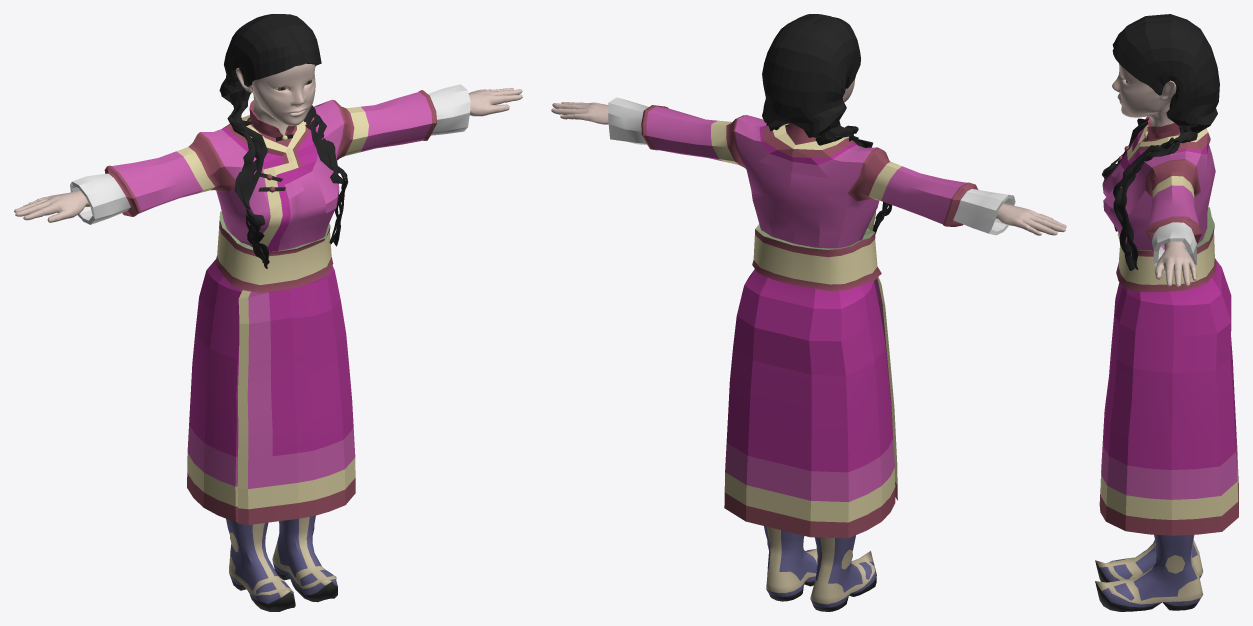
Rendered from bride_finished 1.fbx.
3 renders of one model, left to right at view 1: azimuth 30°, elevation 25°; view 2: azimuth 150°, elevation 25°; view 3: azimuth 270°, elevation 25°, orthographic.
Visible parts, largest first — view 1: pasted__polySurface665, pasted__bride8, polySurface667, pasted__polySurface667, pasted__polySurface669, pasted__bride1, pasted__polySurface671, pasted__polySurface672, pasted__bride; view 2: pasted__polySurface665, pasted__bride8, polySurface667, pasted__polySurface667, pasted__polySurface669, pasted__polySurface671, pasted__polySurface672; view 3: pasted__polySurface665, pasted__bride8, pasted__polySurface669, polySurface667, pasted__bride1, pasted__polySurface667, pasted__polySurface672, pasted__bride.
Part boxes in pixels (<box>): pasted__polySurface665: <box>70,84,470,524</box>; pasted__bride8: <box>219,14,348,268</box>; polySurface667: <box>215,211,333,293</box>; pasted__polySurface667: <box>226,518,295,611</box>; pasted__polySurface669: <box>272,515,337,602</box>; pasted__bride1: <box>235,63,315,135</box>; pasted__polySurface671: <box>14,190,90,222</box>; pasted__polySurface672: <box>468,88,522,116</box>; pasted__bride: <box>247,100,296,159</box>; pasted__polySurface665: <box>608,97,1015,538</box>; pasted__bride8: <box>762,14,892,233</box>; polySurface667: <box>752,224,881,290</box>; pasted__polySurface667: <box>810,535,876,611</box>; pasted__polySurface669: <box>764,526,817,601</box>; pasted__polySurface671: <box>995,203,1066,235</box>; pasted__polySurface672: <box>551,102,608,124</box>; pasted__polySurface665: <box>1099,116,1238,535</box>; pasted__bride8: <box>1102,14,1219,270</box>; pasted__polySurface669: <box>1095,534,1203,611</box>; polySurface667: <box>1116,207,1216,292</box>; pasted__bride1: <box>1112,63,1176,126</box>; pasted__polySurface667: <box>1095,540,1203,582</box>; pasted__polySurface672: <box>1155,241,1196,287</box>; pasted__bride: <box>1143,117,1180,141</box>.
Size of the model in its own units: 35.34 by 37.7 by 8.57.
